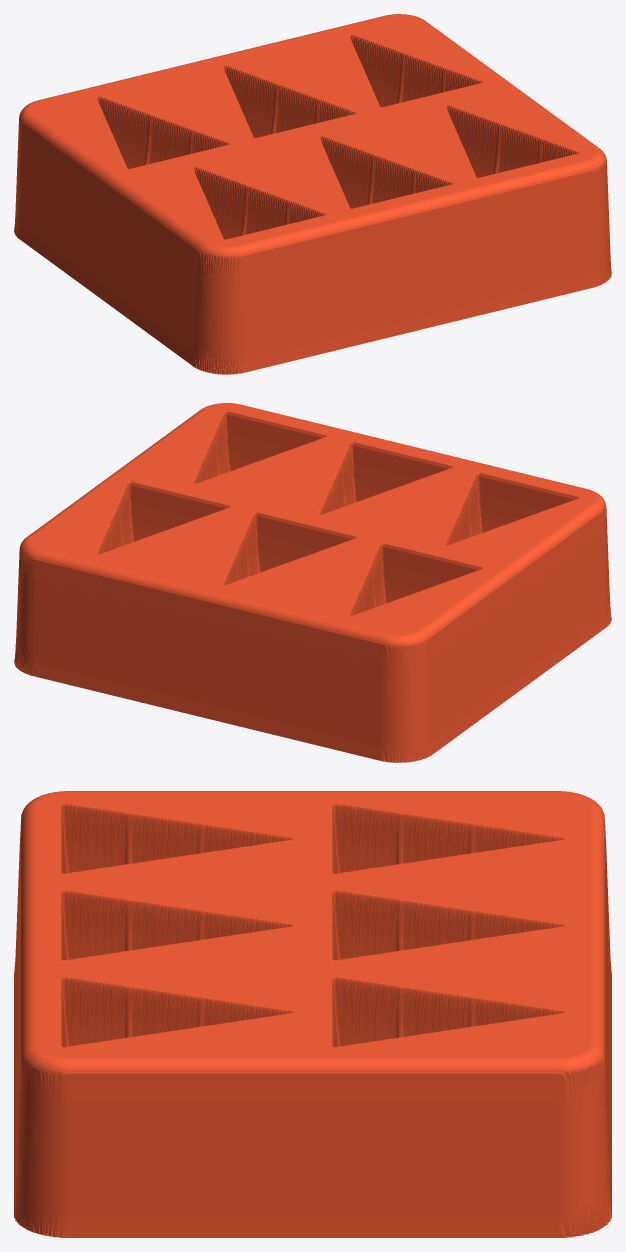
The model's file is mold.glb.
3 views of the same model, one above another, from view 1: azimuth 30°, elevation 25°; view 2: azimuth 150°, elevation 25°; view 3: azimuth 270°, elevation 25° (orthographic). The views are drawn at different scales.
Parts seen in each view (by area): view 1: geometry_0; view 2: geometry_0; view 3: geometry_0.
Part boxes in pixels (x1,y1,x2,y2): geometry_0: (14,14,611,374); geometry_0: (14,403,611,762); geometry_0: (14,791,611,1237).
Size of the model in its own units: 0.1118 by 0.0314 by 0.0996.
